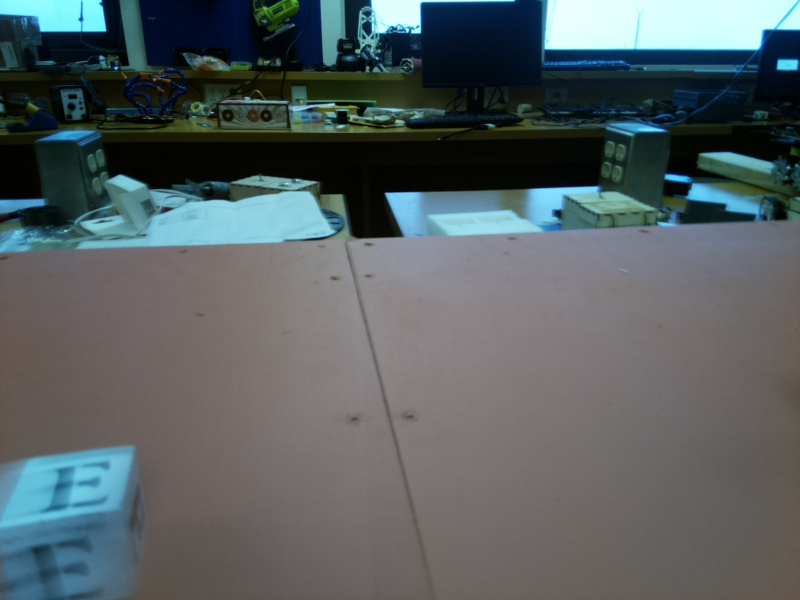blockE: (10, 443, 141, 600)
